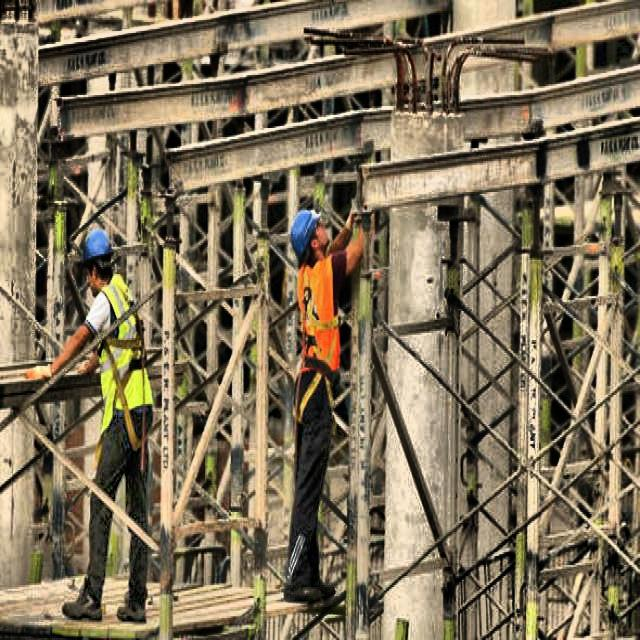person: (72, 228, 156, 632), (280, 205, 350, 600)
